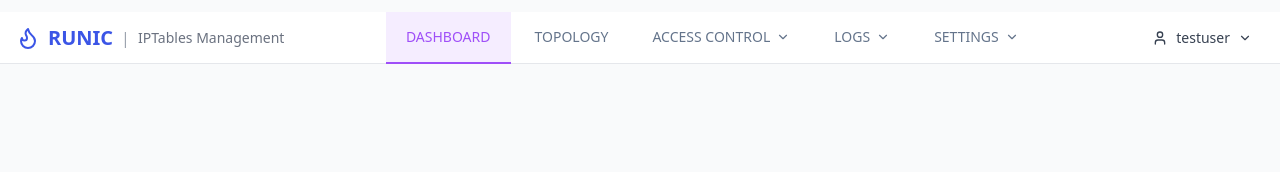
Scenario: TopNav › responsive design › user dropdown shows username and version on mobile when opened
Click to open dropdown (toggles userDropdownOpen state)
Click the button "testuser" at x=1202, y=38, box [1140,20,1264,56]
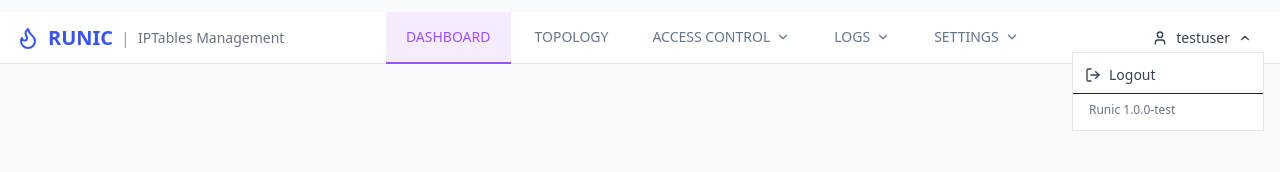
expect the text "Logout" is shown: met, box [1109,64,1156,84]
